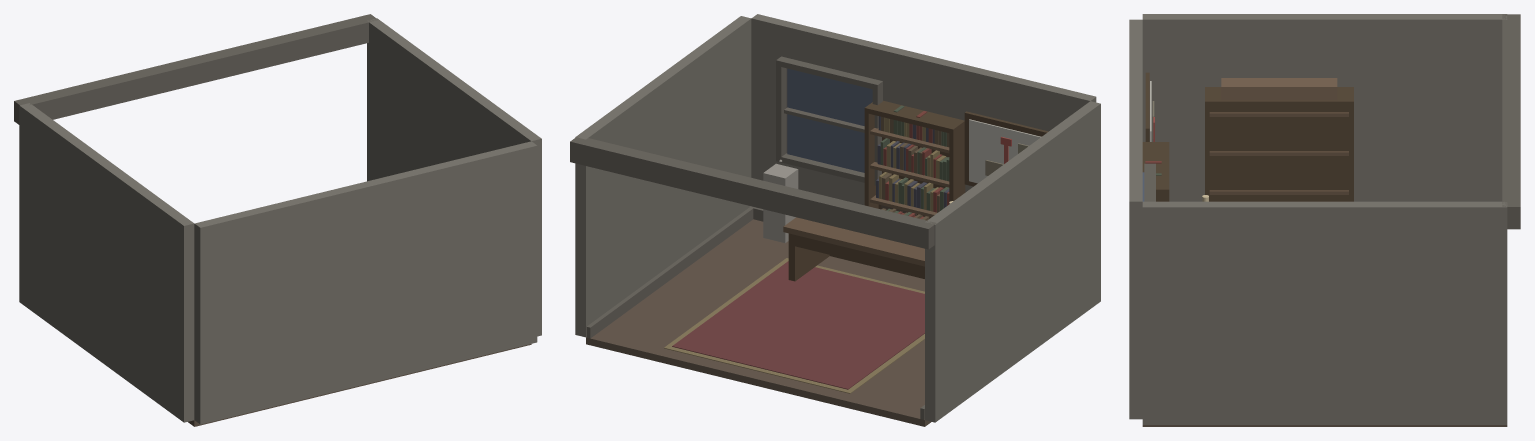
The model's file is set_study.glb.
3 views of the same model, side by side, from view 1: azimuth 30°, elevation 25°; view 2: azimuth 150°, elevation 25°; view 3: azimuth 270°, elevation 25° (orthographic). The views are drawn at different scales.
Visible parts, largest first — view 1: WallBack, WallLeft, WallRight, Lintel, Floor; view 2: WallLeft, WallRight, WallBack, Rug, Floor, Lintel, WindowGlow, SkirtingRight, Desk, MapSheet, RugTrim, DeskApron (+13 smaller); view 3: WallRight, WallLeft, Bookcase, WallBack, Lintel, Books.003, BookcaseTop, Floor, BookShelf.001, BookShelf.002, BookShelf.003, WindowHead.
Boxes of the visible parts, <box> form: WallBack: <box>194,141,537,424</box>; WallLeft: <box>19,103,194,422</box>; WallRight: <box>367,18,541,336</box>; Lintel: <box>14,14,377,124</box>; Floor: <box>188,344,531,426</box>; WallLeft: <box>925,101,1100,422</box>; WallRight: <box>575,16,751,337</box>; WallBack: <box>751,14,1096,205</box>; Rug: <box>672,261,924,389</box>; Floor: <box>586,219,931,426</box>; Lintel: <box>570,136,936,249</box>; WindowGlow: <box>787,68,872,172</box>; SkirtingRight: <box>586,206,753,338</box>; Desk: <box>783,217,924,266</box>; MapSheet: <box>969,119,1041,183</box>; RugTrim: <box>664,258,924,393</box>; DeskApron: <box>789,233,924,277</box>; WallRight: <box>1142,201,1507,424</box>; WallLeft: <box>1142,14,1507,201</box>; Bookcase: <box>1205,87,1353,201</box>; WallBack: <box>1129,19,1142,419</box>; Lintel: <box>1502,14,1520,229</box>; Books.003: <box>1221,78,1337,100</box>; BookcaseTop: <box>1142,142,1169,194</box>; Floor: <box>1142,425,1507,426</box>; BookShelf.001: <box>1209,190,1348,194</box>; BookShelf.002: <box>1209,151,1348,155</box>; BookShelf.003: <box>1209,112,1348,116</box>; WindowHead: <box>1144,166,1155,201</box>.
Size of the model in its own units: 5.52 by 3 by 4.72.
